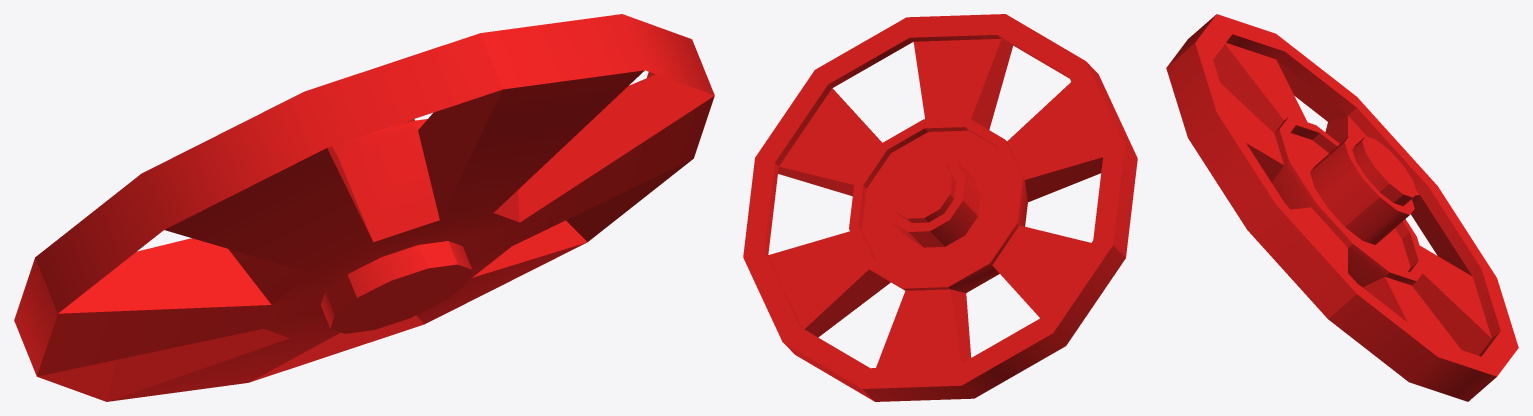
The model's file is katup.fbx.
3 views of the same model, side by side, from view 1: azimuth 30°, elevation 25°; view 2: azimuth 150°, elevation 25°; view 3: azimuth 270°, elevation 25° (orthographic). The views are drawn at different scales.
Parts seen in each view (by area): view 1: Katuip; view 2: Katuip; view 3: Katuip.
Part boxes in pixels (x1,y1,x2,y2): Katuip: (14,14,714,401); Katuip: (743,14,1137,401); Katuip: (1166,14,1518,401).
Bounding box in the file's own units: 24.66 × 19.24 × 18.62.
